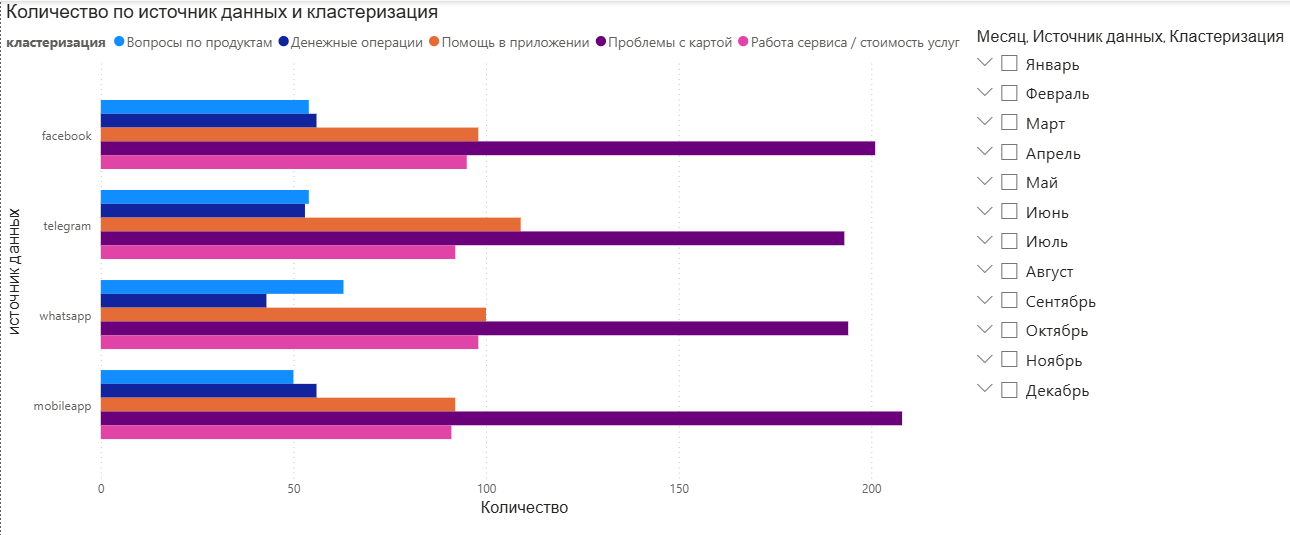

The dashboard page shown, as its layout file describes it:
{"tool":"powerbi","page":{"name":"Страница 3","canvas":[1280,720],"ordinal":2},"visuals":[{"type":"clusteredBarChart","fields":{"Category":["messages_with_clusters.transport"],"Series":["messages_with_clusters.cluster_label"],"Y":["CountNonNull(messages_with_clusters.id)"]},"box":[0,0,942,509.5],"z":0},{"type":"slicer","fields":{"Values":["messages_with_clusters.created.Изменение.Иерархия дат.Месяц","messages_with_clusters.transport","messages_with_clusters.cluster_label"]},"box":[942,21.2,338.3,553.2],"z":1000}]}

Visuals, with their boxes on the page's 1280x720 design canvas (x1, y1, x2, y2). These are canvas units, not pixel positions in the 1290x535 screenshot, which may show the page scaled, cropped or inside an application window:
clusteredBarChart - messages_with_clusters.transport x messages_with_clusters.cluster_label: 0 0 942 510
slicer - messages_with_clusters.created.Изменение.Иерархия дат.Месяц x messages_with_clusters.transport: 942 21 1280 574
